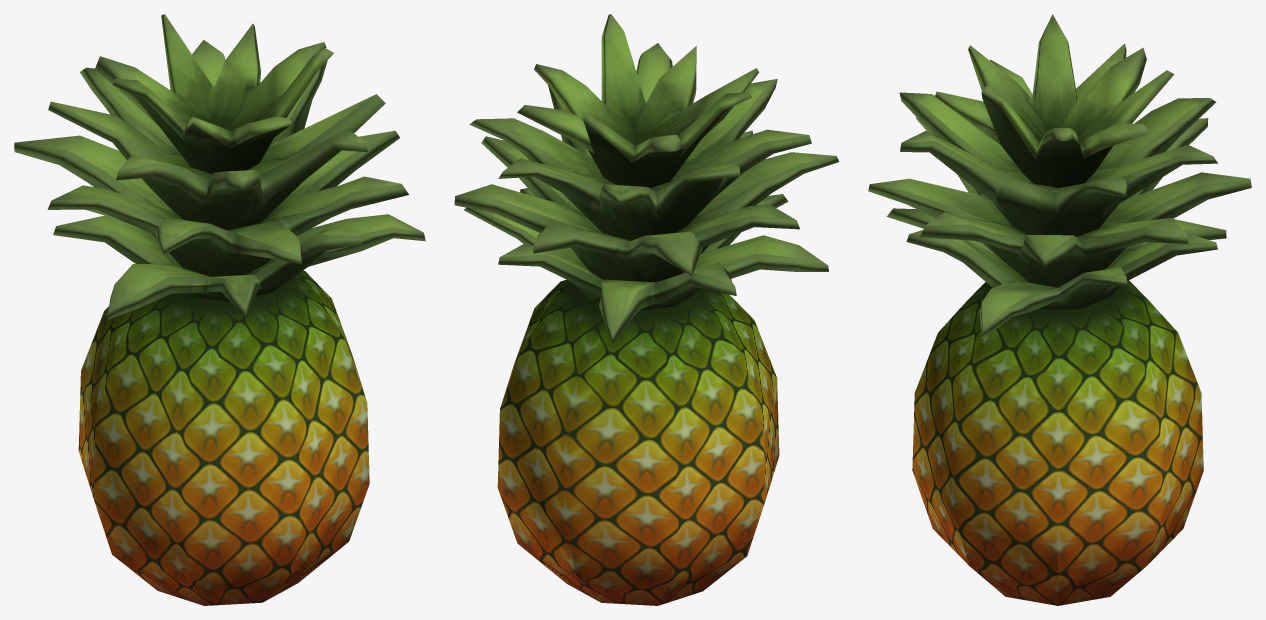
The model's file is Pineapple.fbx.
3 renders of one model, left to right at view 1: azimuth 30°, elevation 25°; view 2: azimuth 150°, elevation 25°; view 3: azimuth 270°, elevation 25°, orthographic. The views are drawn at different scales.
Parts seen in each view (by area): view 1: Pineapple; view 2: Pineapple; view 3: Pineapple.
Boxes of the visible parts, left/top/right/bottom form: Pineapple: left=14, top=14, right=425, bottom=605; Pineapple: left=454, top=14, right=839, bottom=605; Pineapple: left=868, top=14, right=1251, bottom=605.
Bounding box in the file's own units: 59.41 × 91.65 × 59.82.
